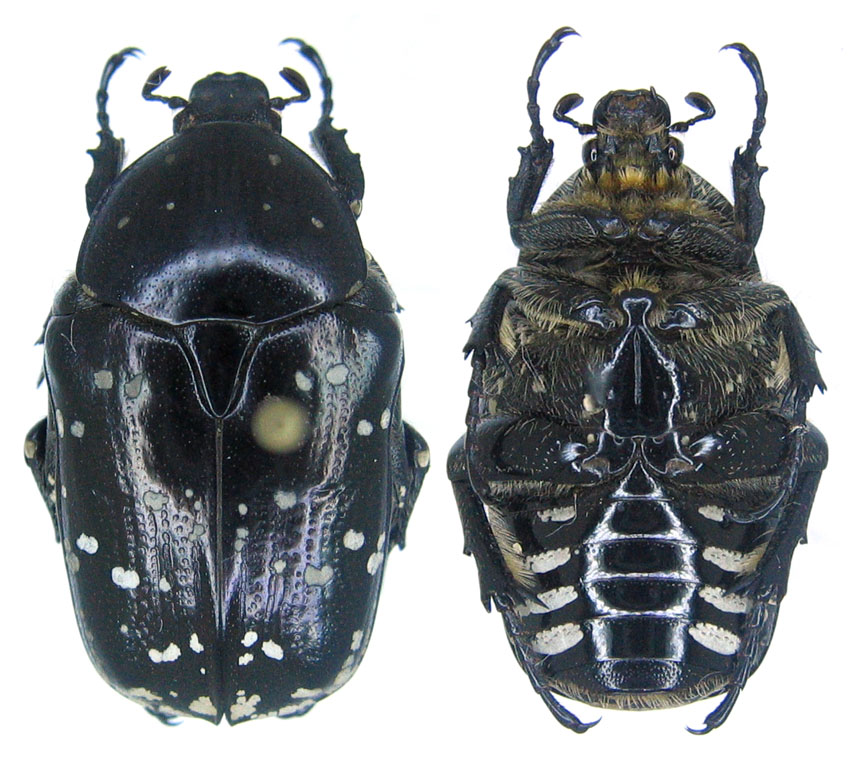Protaetia_funebris: (19, 26, 438, 732)
